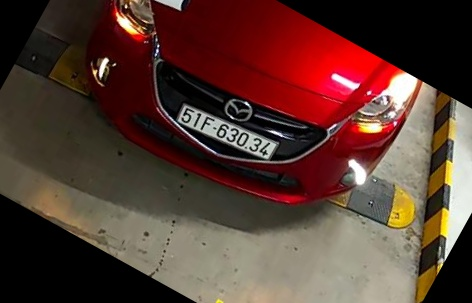plate: (175, 98, 281, 173)
